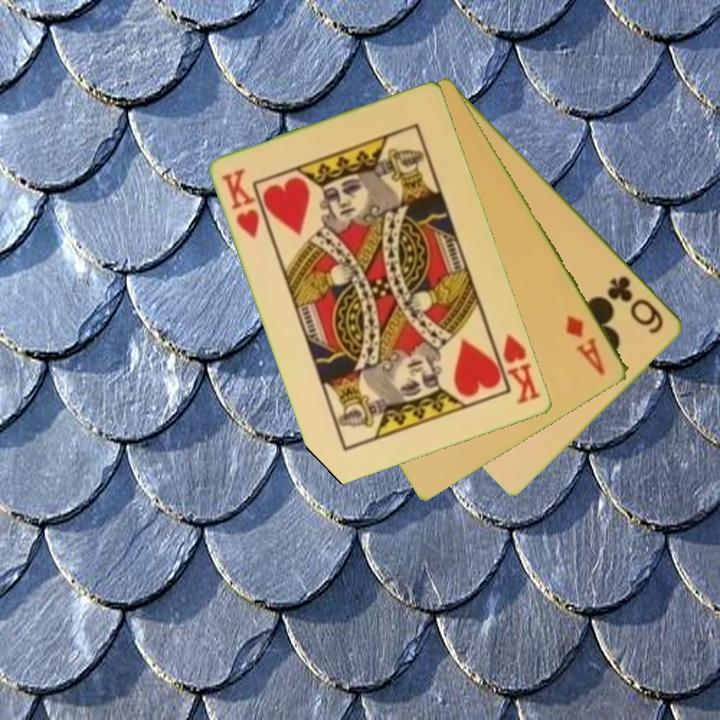6c: (604, 272, 667, 337)
Ad: (562, 312, 609, 379)
Kh: (489, 330, 545, 407), (218, 165, 263, 241)
